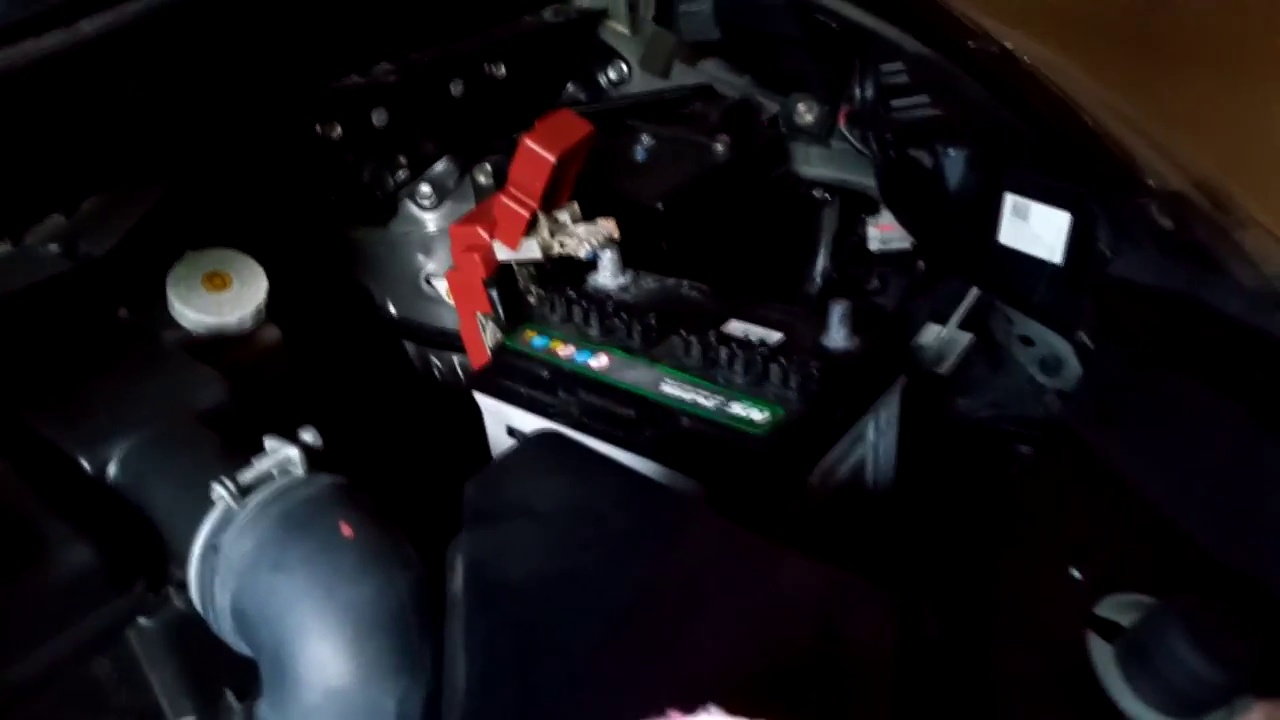battery: (466, 242, 896, 467)
neg_disconnected: (782, 268, 894, 364)
pos_disconnected: (411, 126, 664, 377)
